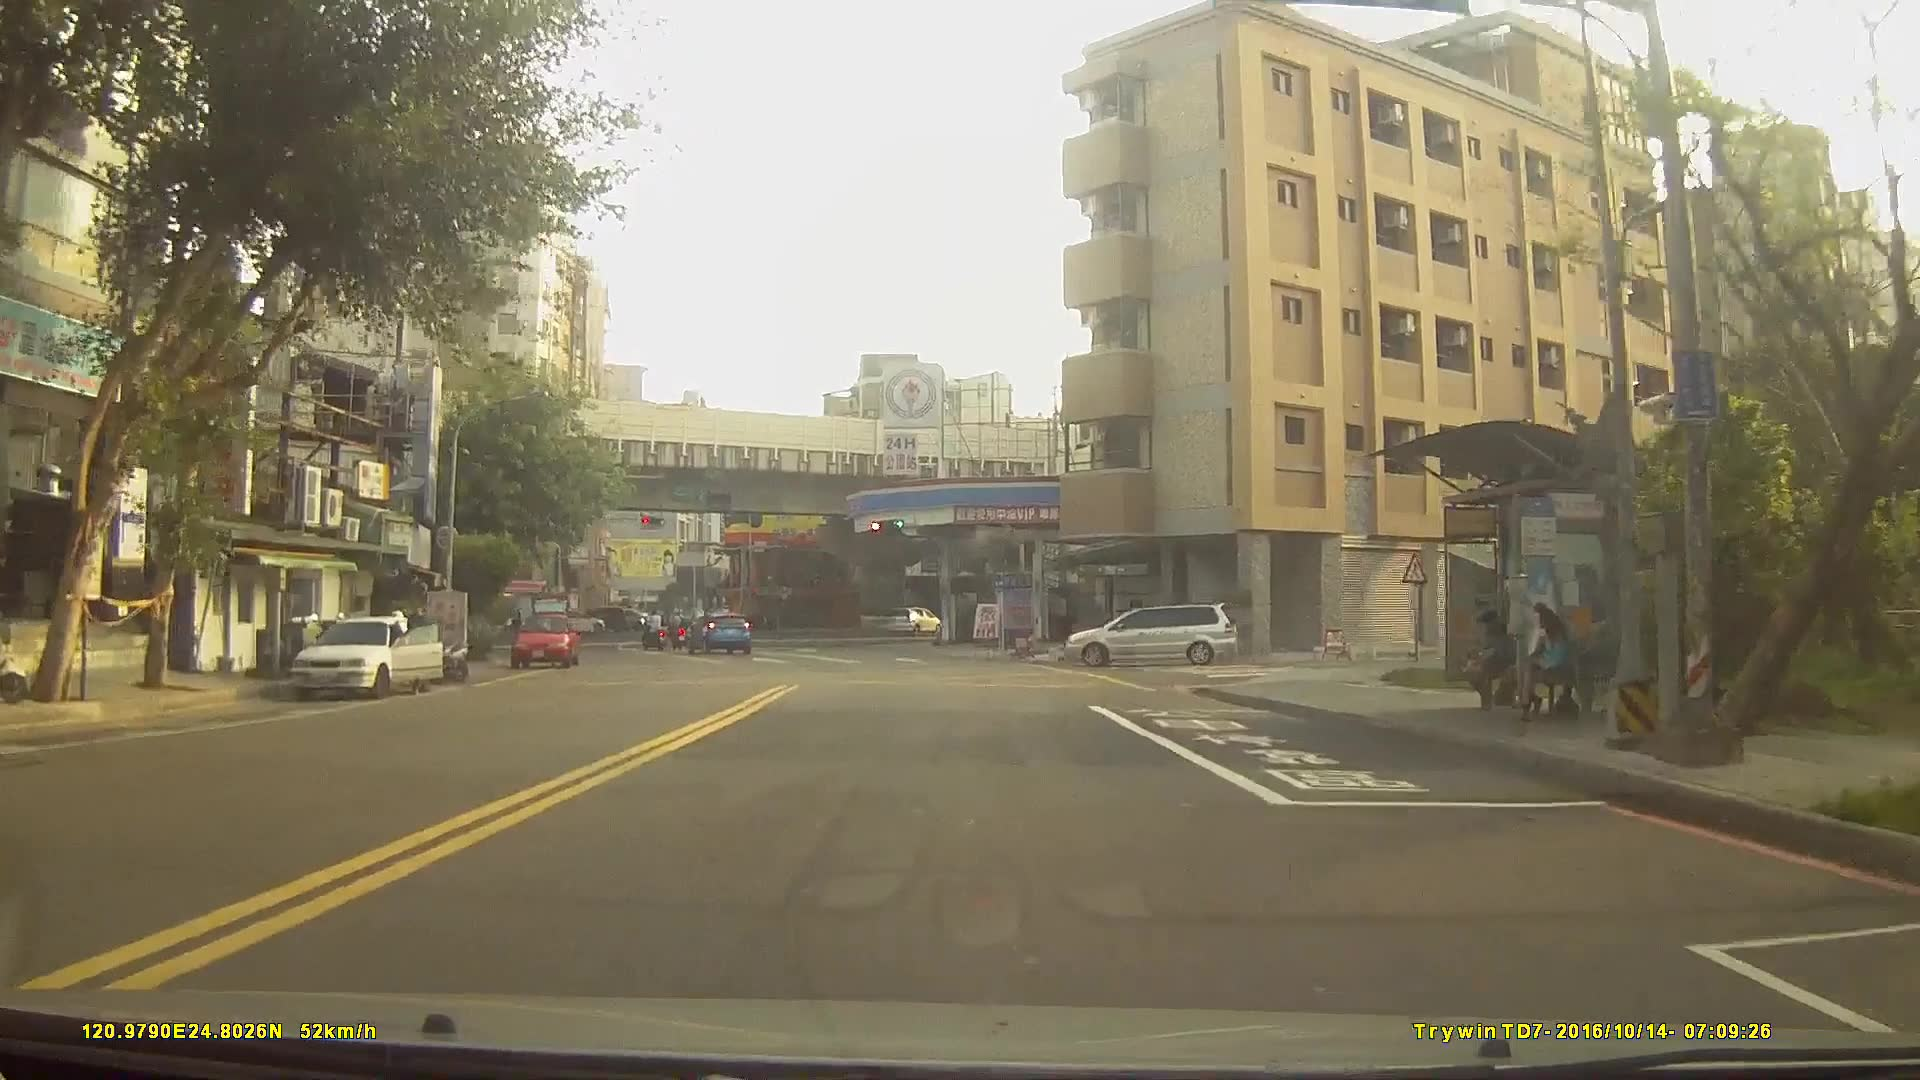pedestrian: (1523, 599, 1583, 714), (1466, 607, 1522, 706)
rider: (640, 610, 669, 653)
vehicle: (287, 611, 446, 698), (1059, 601, 1239, 664), (508, 609, 577, 667), (682, 610, 754, 655), (881, 603, 942, 633), (573, 603, 630, 633), (543, 605, 606, 632)
